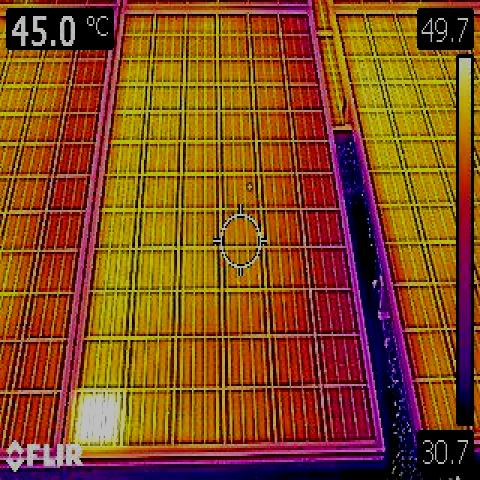fault: (71, 390, 127, 447)
